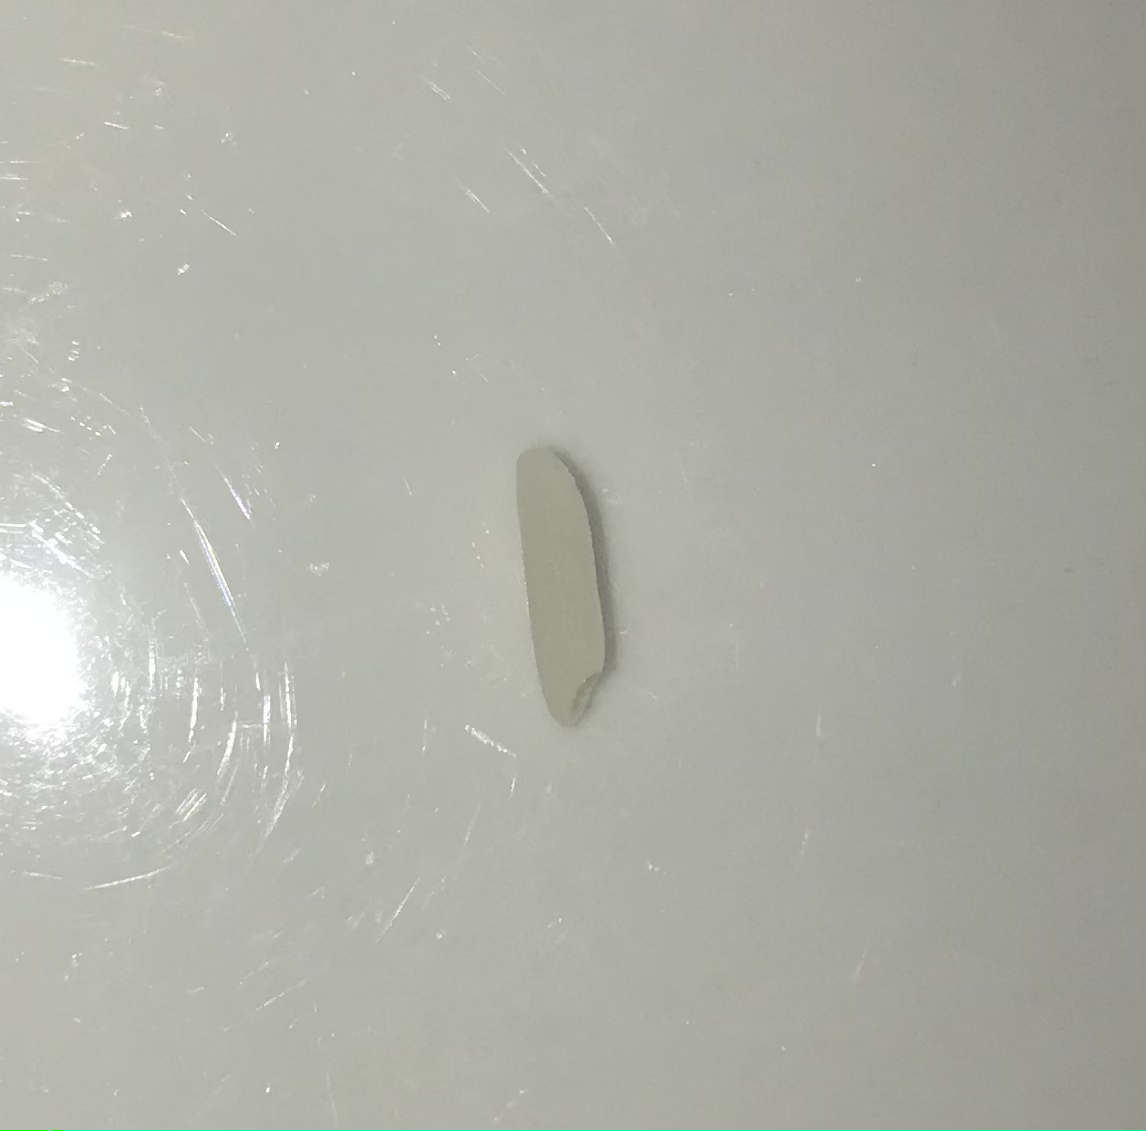Gao Thom Go Cong: (504, 442, 618, 741)
